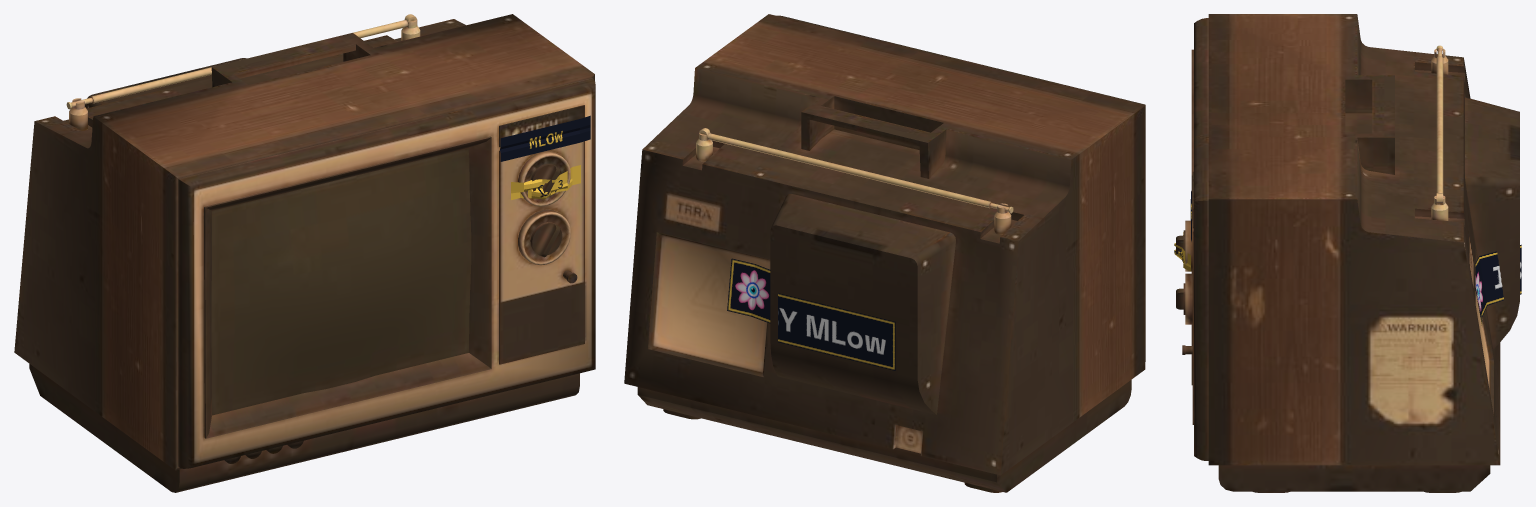
File: nyb_taxi_tv.glb
3 renders of one model, left to right at view 1: azimuth 30°, elevation 25°; view 2: azimuth 150°, elevation 25°; view 3: azimuth 270°, elevation 25°, orthographic. The views are drawn at different scales.
Parts seen in each view (by area): view 1: Television_01, stk_lbl_b237e4e148.png, stk_lbl_e803448bc0.png; view 2: Television_01, stk_label_bymlow.png; view 3: Television_01, stk_label_bymlow.png.
Boxes of the visible parts, left/top/right/bottom form: Television_01: left=14, top=14, right=595, bottom=492; stk_lbl_b237e4e148.png: left=500, top=115, right=590, bottom=161; stk_lbl_e803448bc0.png: left=511, top=165, right=580, bottom=199; Television_01: left=624, top=14, right=1145, bottom=492; stk_label_bymlow.png: left=727, top=258, right=895, bottom=370; Television_01: left=1176, top=14, right=1519, bottom=492; stk_label_bymlow.png: left=1475, top=244, right=1521, bottom=326.
Size of the model in its own units: 0.6 by 0.4568 by 0.4758.
4 materials, 4 textured.
